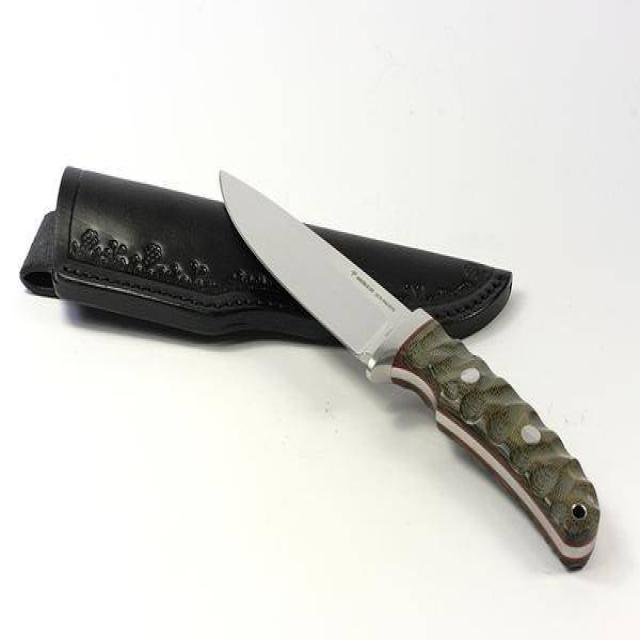knife: (217, 160, 603, 583)
